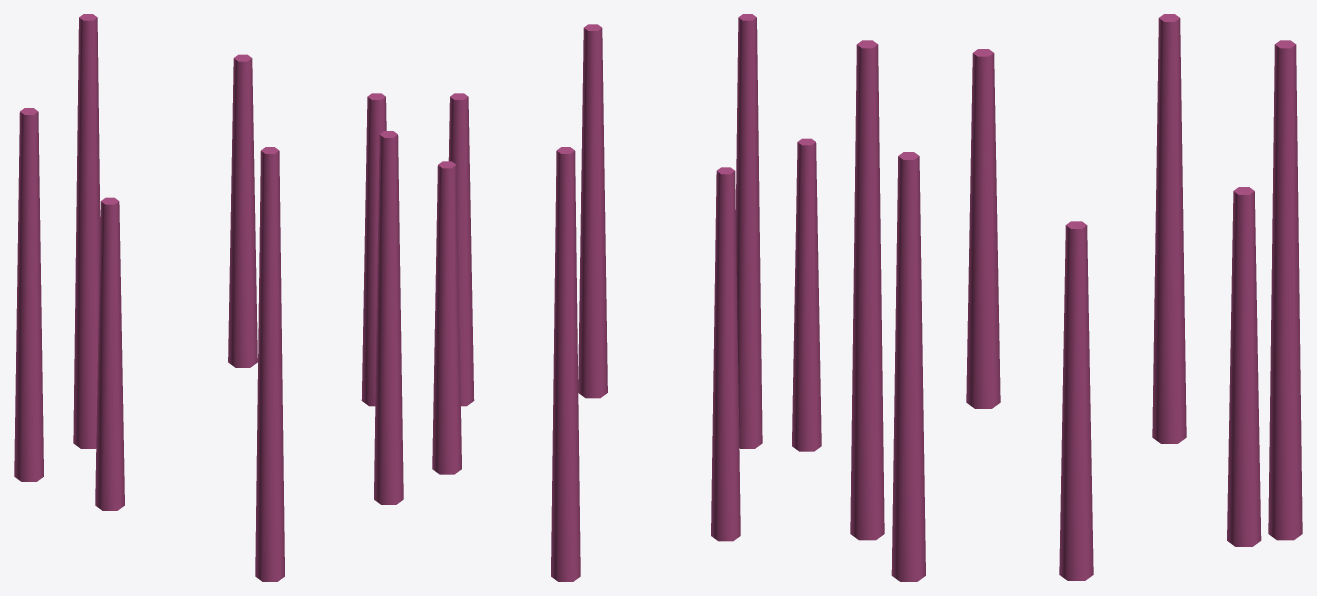
Rendered from wetland_reeds.glb.
The picture shows the model from 3 angles, left to right: view 1: azimuth 30°, elevation 25°; view 2: azimuth 150°, elevation 25°; view 3: azimuth 270°, elevation 25°; orthographic projection. The views are drawn at different scales.
Visible parts, largest first — view 1: reed_2, reed_5, reed_1, reed_4, reed_3, reed_6, reed_0; view 2: reed_5, reed_2, reed_4, reed_1, reed_6, reed_3, reed_0; view 3: reed_2, reed_5, reed_4, reed_1, reed_3, reed_0, reed_6.
Part boxes in pixels (x1,y1,x2,y2): reed_2: (255,147,284,581); reed_5: (73,14,100,448); reed_1: (374,131,403,504); reed_4: (14,108,43,481); reed_3: (95,197,124,510); reed_6: (228,54,257,367); reed_0: (361,93,386,406); reed_5: (551,147,580,581); reed_2: (735,14,762,448); reed_4: (711,167,740,541); reed_1: (578,24,607,398); reed_6: (432,161,461,474); reed_3: (792,138,821,451); reed_0: (448,93,474,406); reed_2: (850,40,884,540); reed_5: (1268,40,1302,540); reed_4: (1152,14,1186,443); reed_1: (891,152,925,581); reed_3: (966,49,1000,408); reed_0: (1059,221,1093,580); reed_6: (1227,187,1261,546).
Size of what is drawn, in the model's own units: 1.02 by 1.26 by 1.05.
